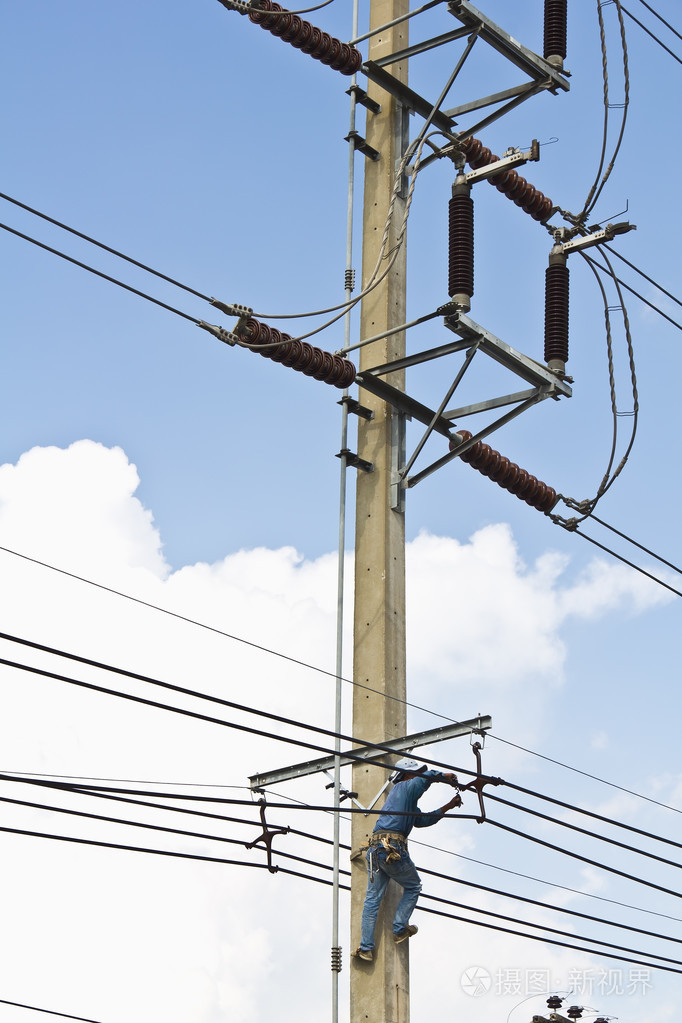insulator: (453, 428, 555, 513), (243, 4, 365, 75), (458, 137, 556, 224), (236, 319, 354, 388)
